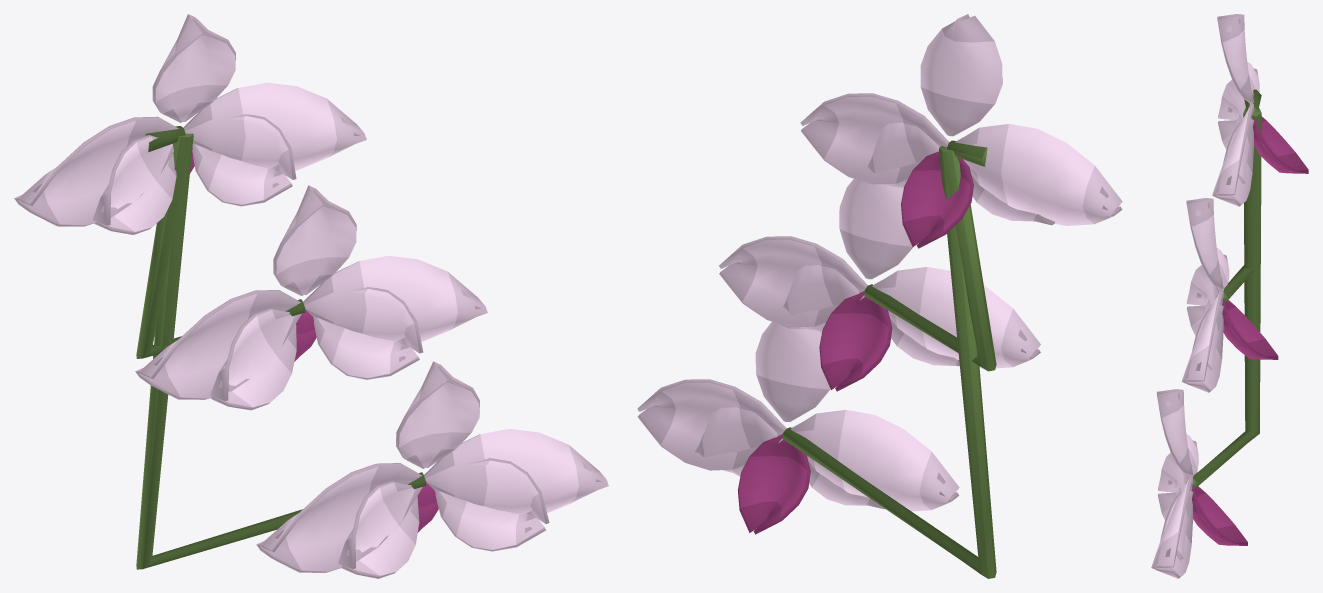
The model's file is garden-orchid-bloom-head-3.glb.
The picture shows the model from 3 angles, left to right: view 1: azimuth 30°, elevation 25°; view 2: azimuth 150°, elevation 25°; view 3: azimuth 270°, elevation 25°; orthographic projection. The views are drawn at different scales.
Parts seen in each view (by area): view 1: orchid-bloom-head-3; view 2: orchid-bloom-head-3; view 3: orchid-bloom-head-3.
Part boxes in pixels (x1,y1,x2,y2): orchid-bloom-head-3: (14, 14, 608, 578); orchid-bloom-head-3: (637, 14, 1122, 578); orchid-bloom-head-3: (1151, 14, 1308, 578).
Size of the model in its own units: 0.2091 by 0.2126 by 0.0673.
